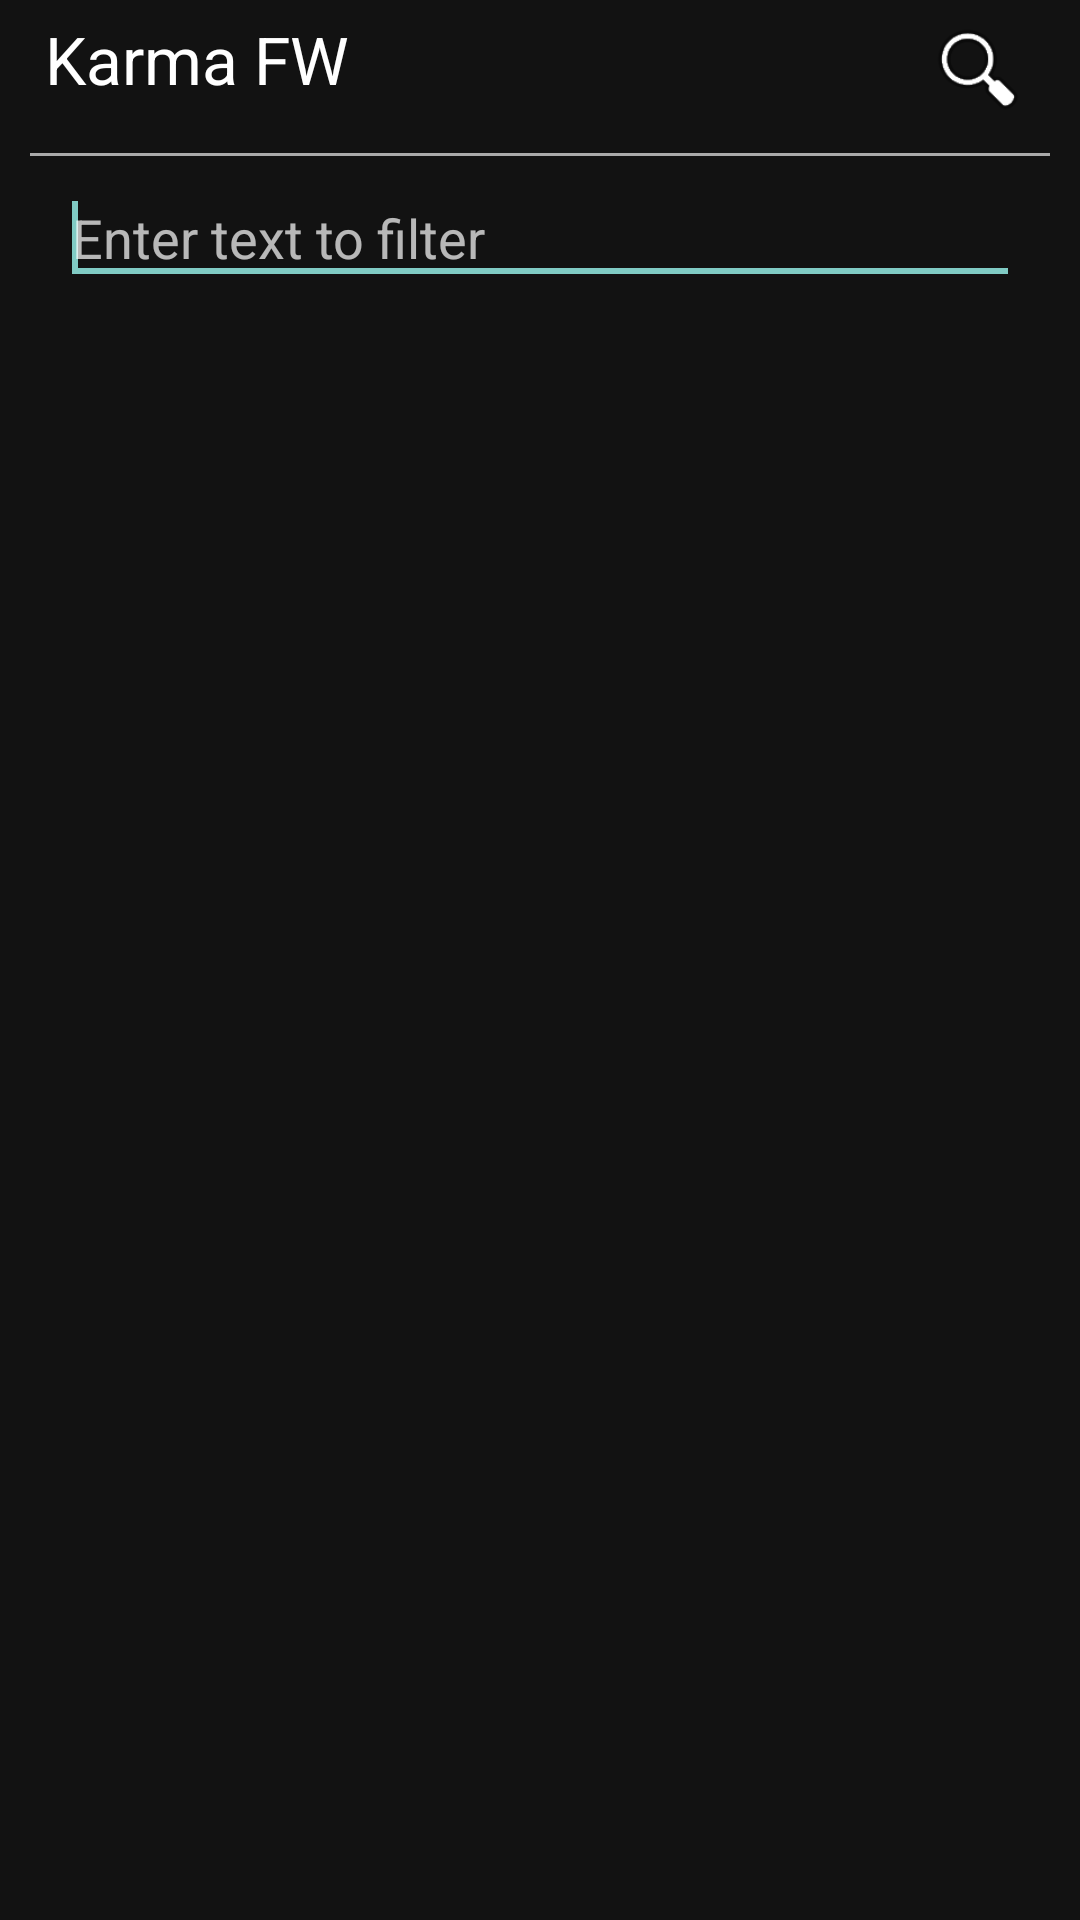

Screen size 1080 × 1920. Icon name, then its center in pixels as [x,y]:
search: [978,69]
